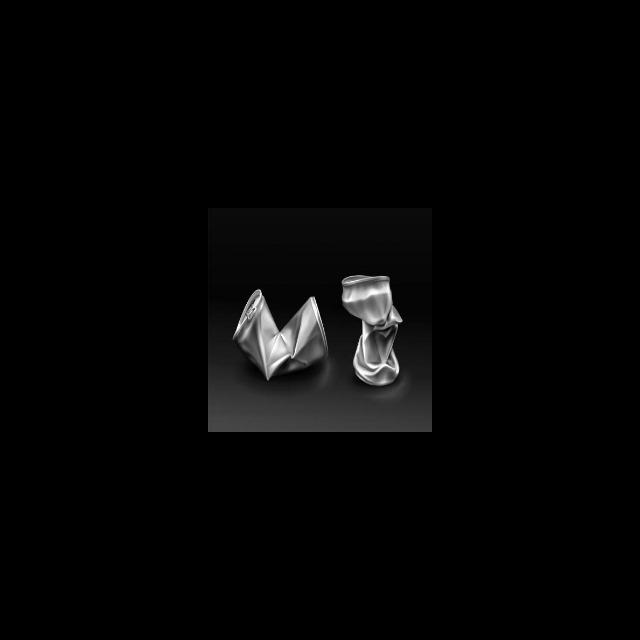metal: (230, 286, 332, 387), (335, 269, 407, 391)
